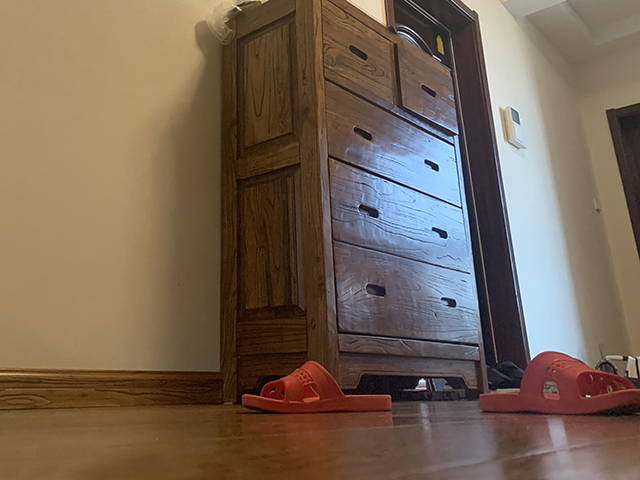cabinet: (218, 1, 488, 406)
slippers: (479, 350, 639, 416), (240, 359, 394, 413)
